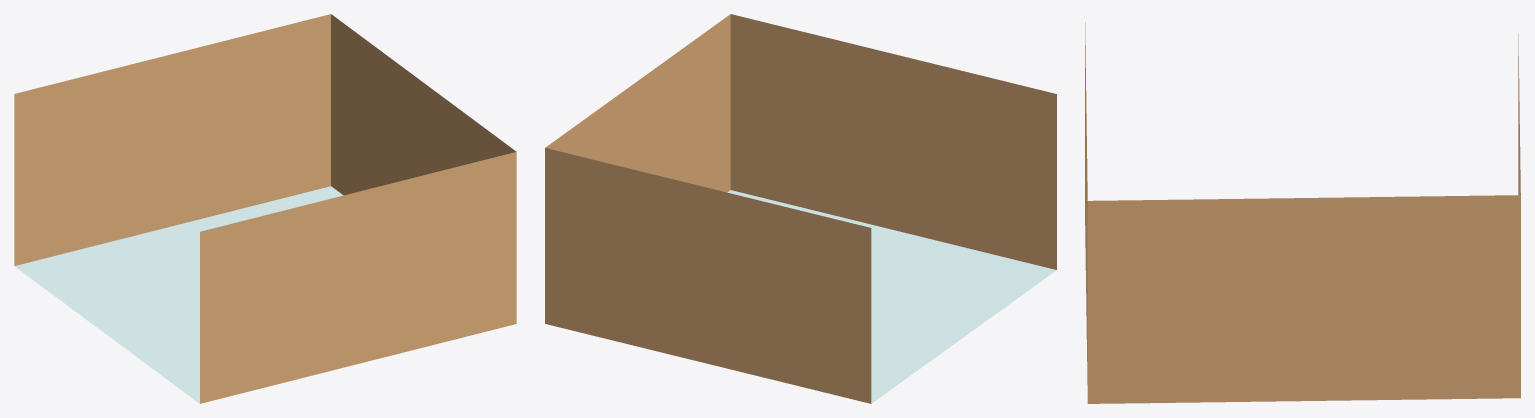
Rendered from the_room.gltf.
3 renders of one model, left to right at view 1: azimuth 30°, elevation 25°; view 2: azimuth 150°, elevation 25°; view 3: azimuth 270°, elevation 25°, orthographic. The views are drawn at different scales.
Visible parts, largest first — view 1: Plane; view 2: Plane; view 3: Plane.
Part boxes in pixels (left/top/right/bottom): Plane: left=14, top=14, right=516, bottom=403; Plane: left=545, top=14, right=1056, bottom=403; Plane: left=1085, top=22, right=1520, bottom=403.
Bounding box in the file's own units: 15.67 × 8.31 × 15.66.
